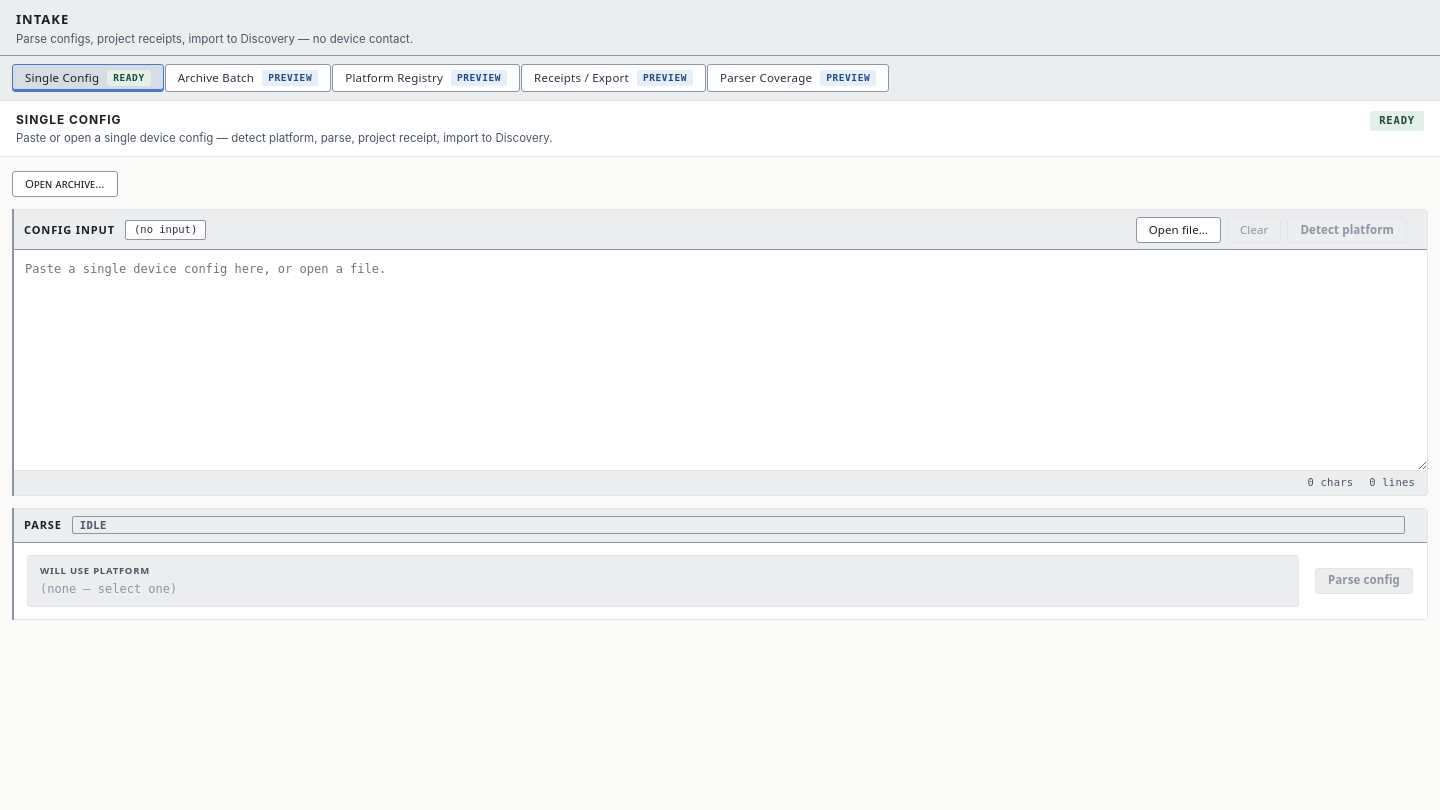
Test: IntakeMode — workbench (V1BN) › switching to Archive Batch shows deferred state
Click the tab with test id "mwb-tool-archive_batch" at (248, 78), box 165,64 -> 331,92
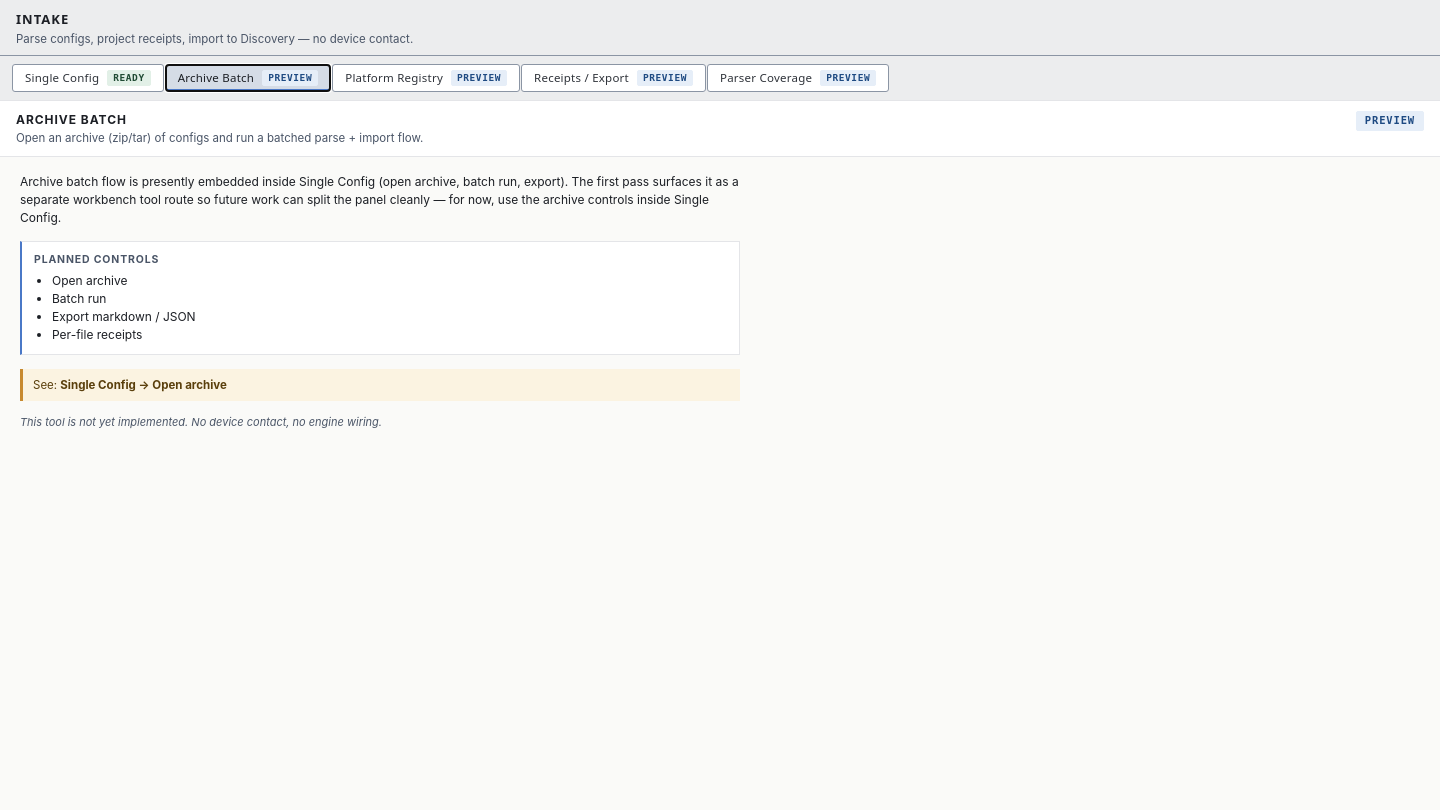
Check: the element with test id "mwb-deferred-archive_batch" is shown, box 0,157 -> 760,447
